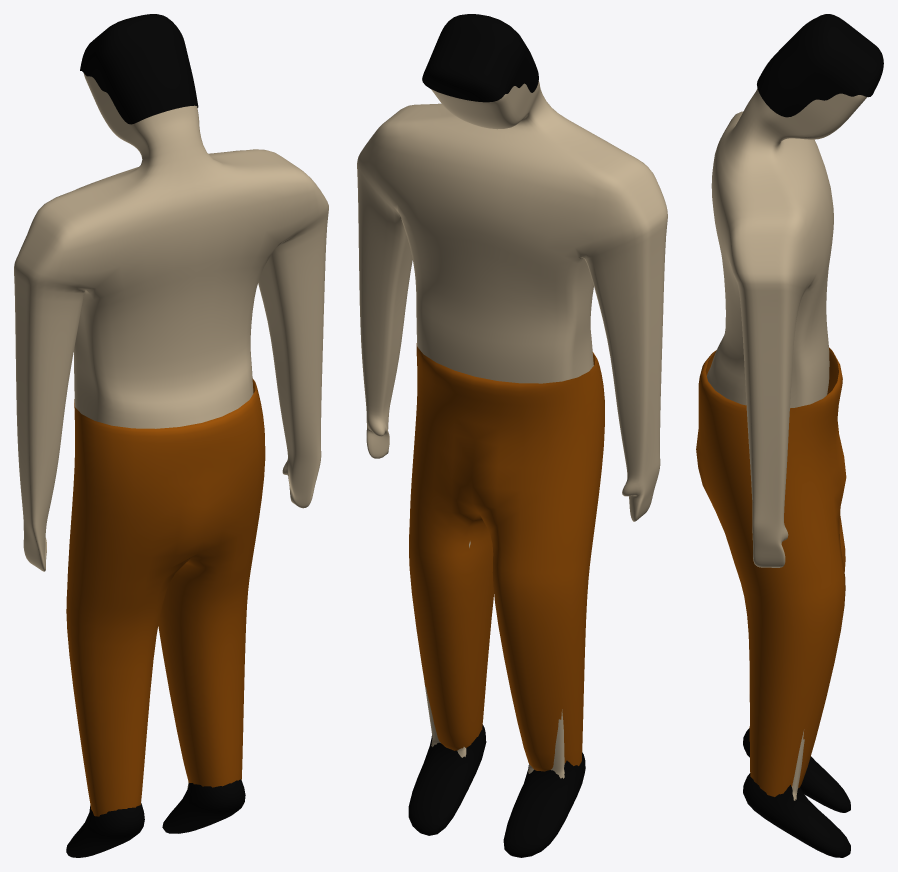
Rendered from villarroel_model.glb.
3 views of the same model, side by side, from view 1: azimuth 30°, elevation 25°; view 2: azimuth 150°, elevation 25°; view 3: azimuth 270°, elevation 25° (orthographic). The views are drawn at different scales.
Visible parts, largest first — view 1: original model, pants, hair, shoes; view 2: original model, pants, shoes, hair; view 3: original model, pants, hair, shoes.
Part boxes in pixels (x1,y1,x2,y2): original model: (14,73,328,789); pants: (66,378,265,816); hair: (80,14,198,124); shoes: (66,779,245,857); original model: (357,80,667,778); pants: (409,343,604,771); shoes: (408,724,585,857); hair: (422,14,538,102); original model: (707,88,866,800); pants: (696,347,846,796); hair: (757,14,883,117); shoes: (743,728,850,857).
Size of the model in its own units: 524 by 1400 by 294.
